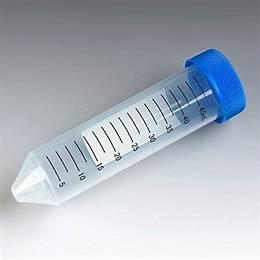Test tube: (16, 30, 250, 209)
